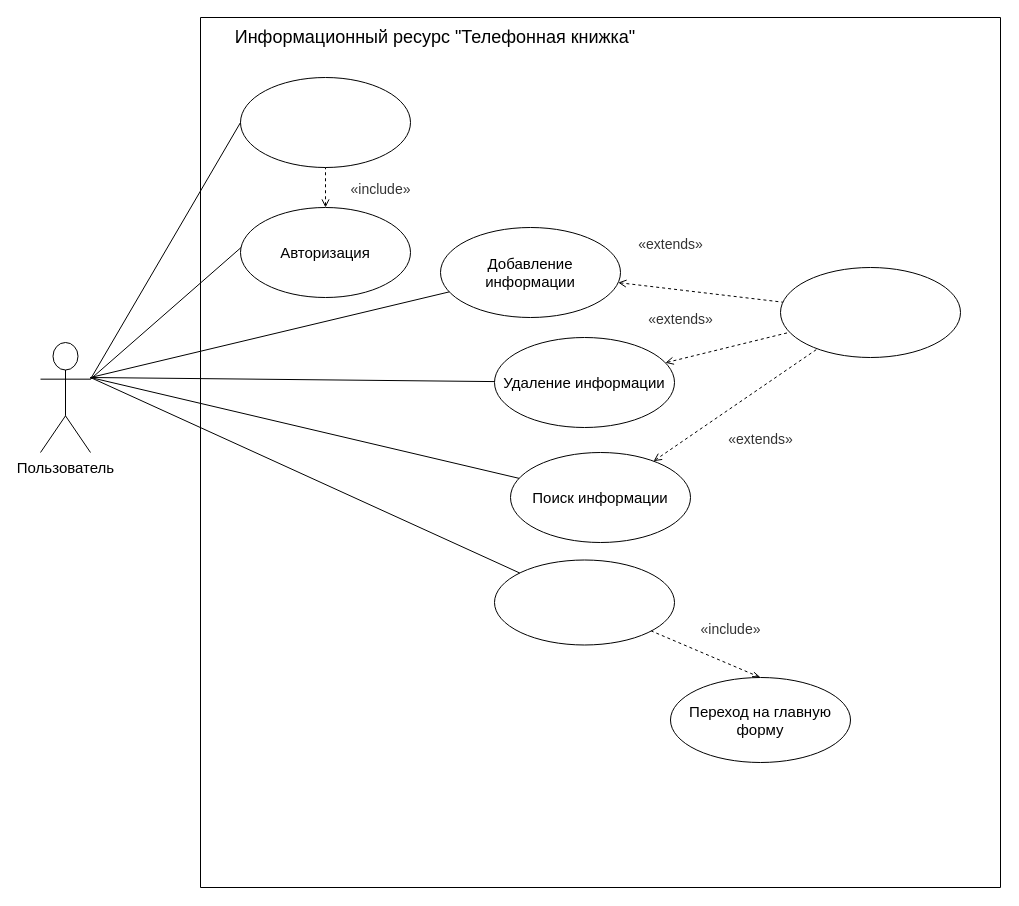
The diagram is 1019 pixels wide and 906 high, and some of its shapes have lost their labels. Each missing label, with the centre of its shape:
Просмотр информации: (870,312)
Просмотр справки: (584,602)
Регистрация: (325,122)
